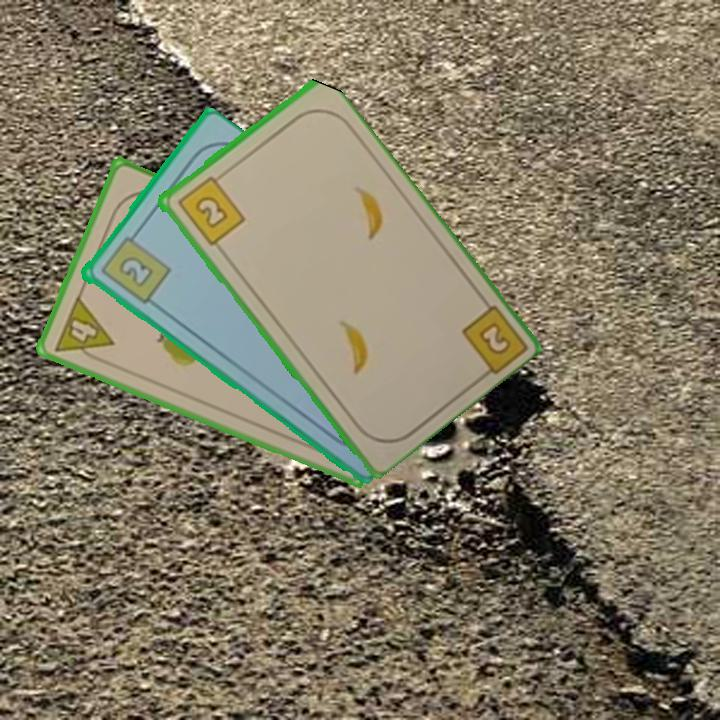2b: (96, 227, 173, 307), (173, 171, 248, 248), (474, 318, 514, 359)
4p: (50, 292, 117, 368)
